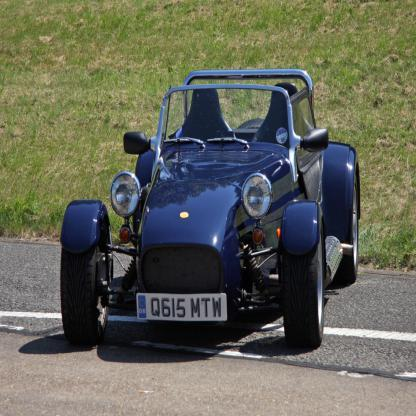car: (59, 70, 360, 350)
